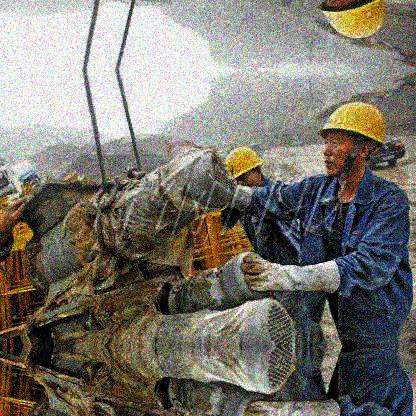helmet: (321, 101, 389, 184), (221, 147, 267, 186)
